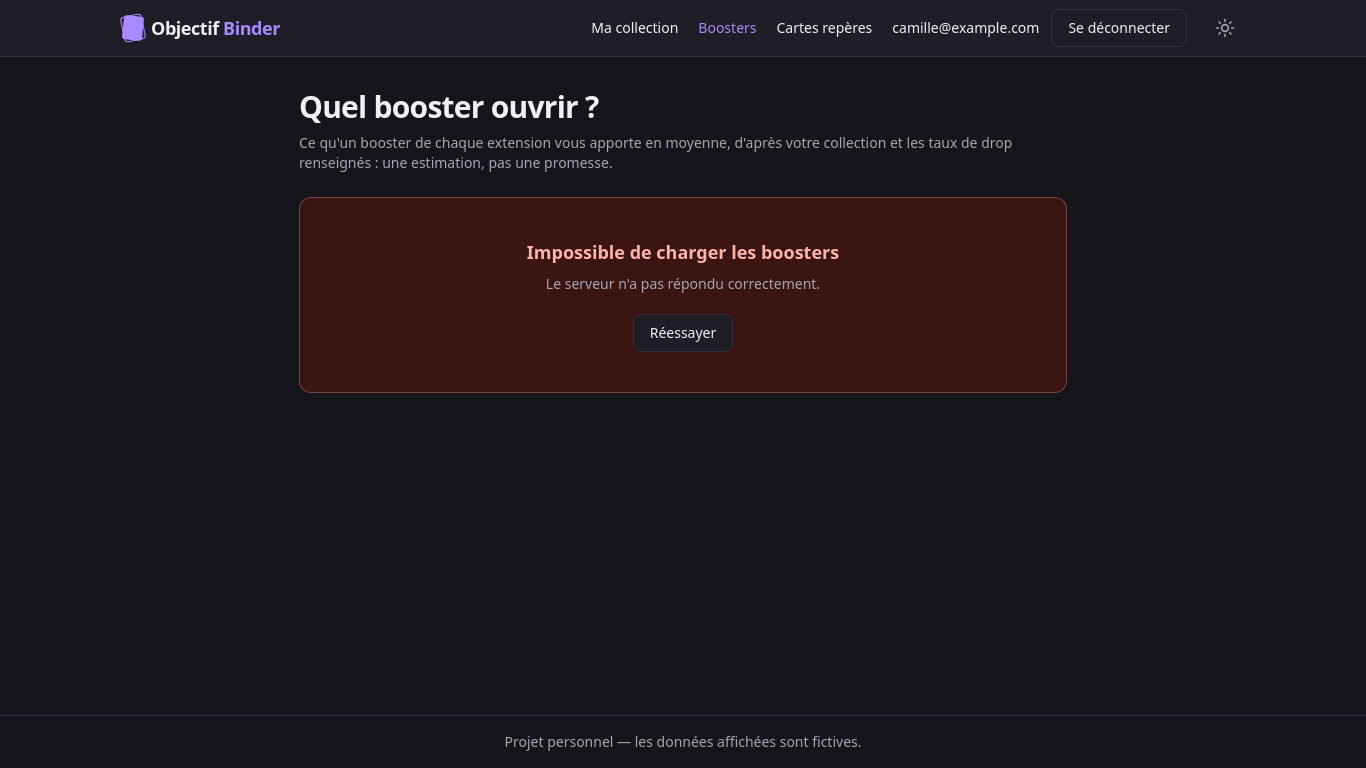
Test case: which booster to open › reports a list that cannot be loaded and recovers when retrying
The image size is (1366, 768).
Expected: the message shows "Impossible de charger les boosters", [527,240,839,264]
Click the button "Réessayer": coordinates (683, 333) [633,314,733,352]
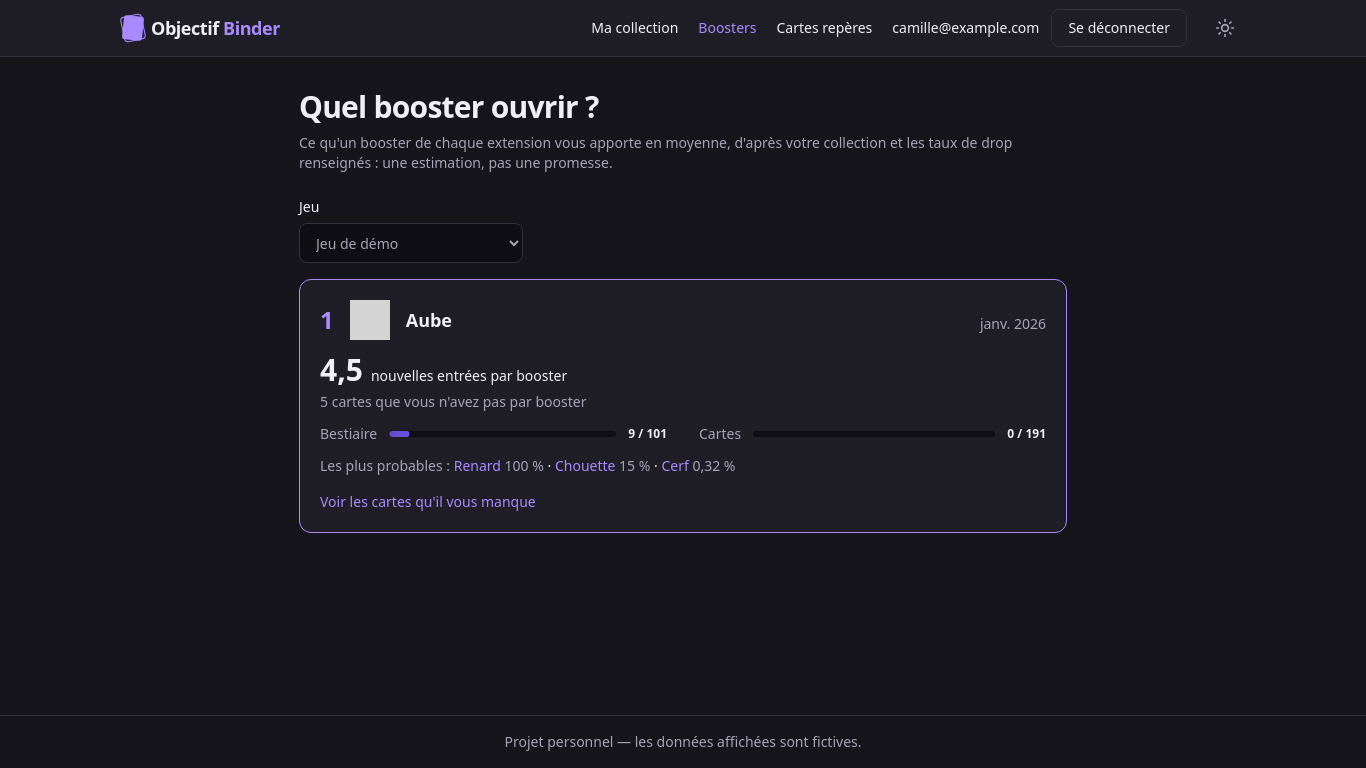
Result: the element "Aube" is shown at [299,279,1067,533]
